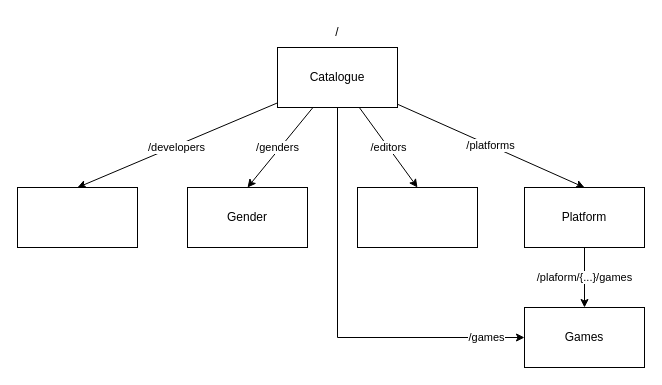
Some shapes in this 662 by 385 pixel diagram are drawn without their labels. The centre of each missing label's shape, as x and y in pixels:
"Developer" goes at pixel 77 217.
"Editor" goes at pixel 417 217.
